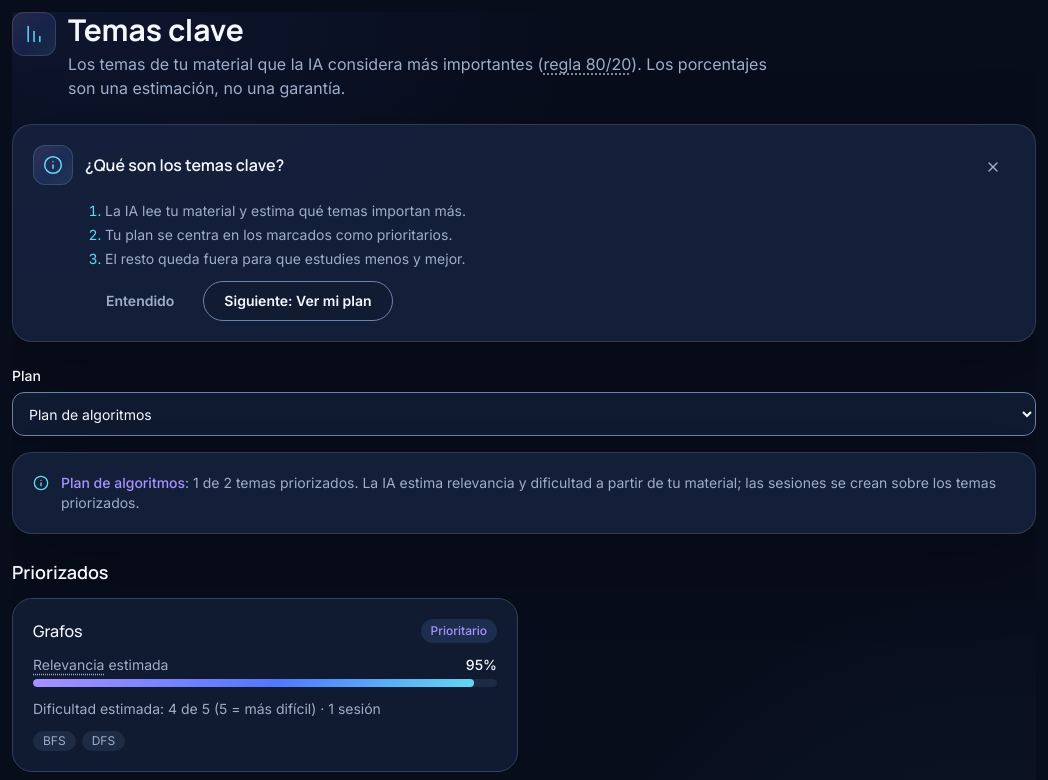
Test: TopicsPage › selects the plan from the URL and lets the learner switch plans
This screenshot has width=1048, height=780.
Check: the heading "Grafos" is shown, box [33, 619, 83, 643]
Select "Plan de redes" in the dropdown labelled "Plan" at (524, 414), box [12, 392, 1036, 436]
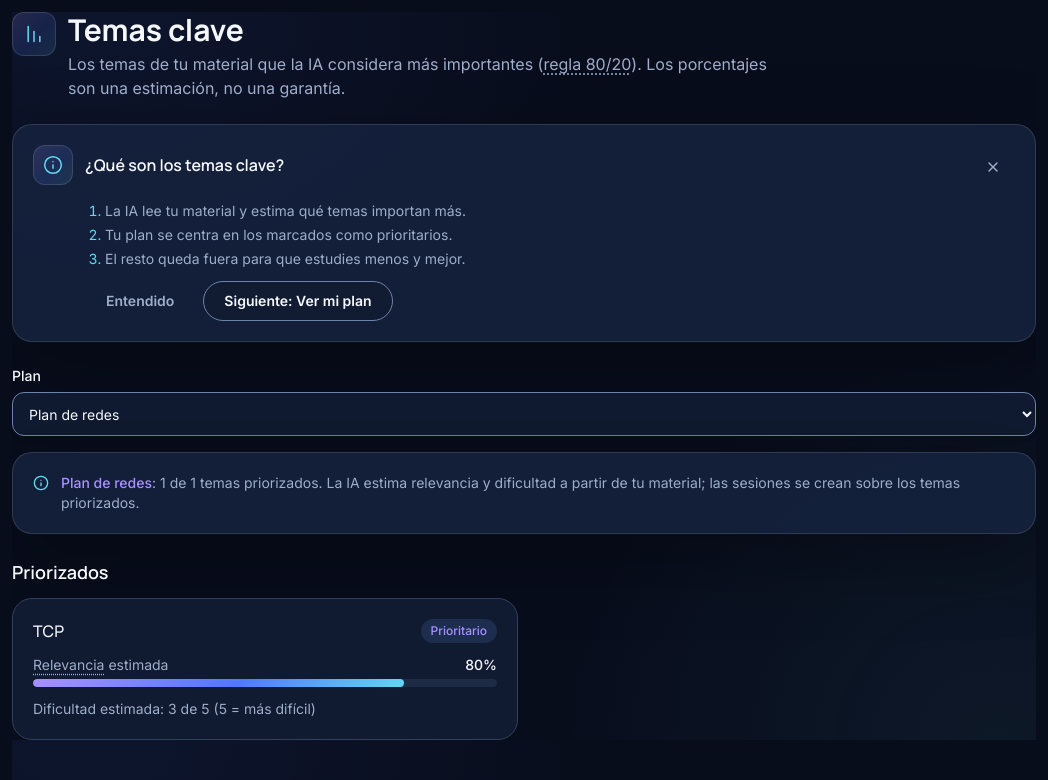
Check: the heading "TCP" is shown, box [33, 619, 64, 643]
